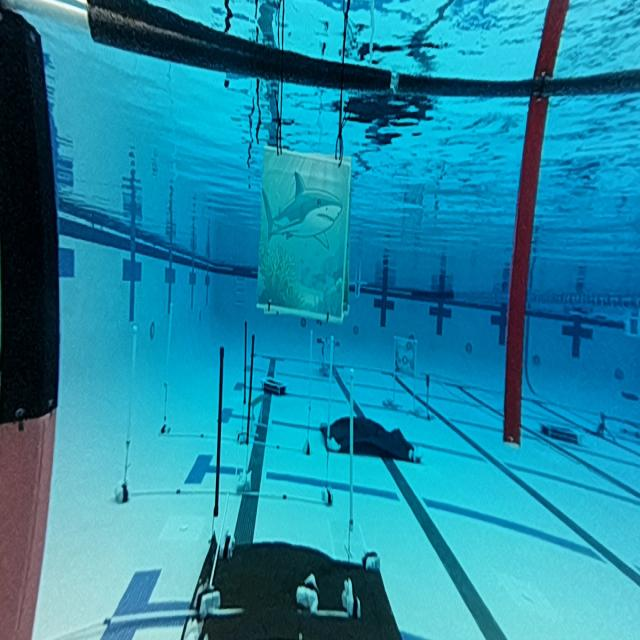round_nose: (262, 154, 349, 330)
